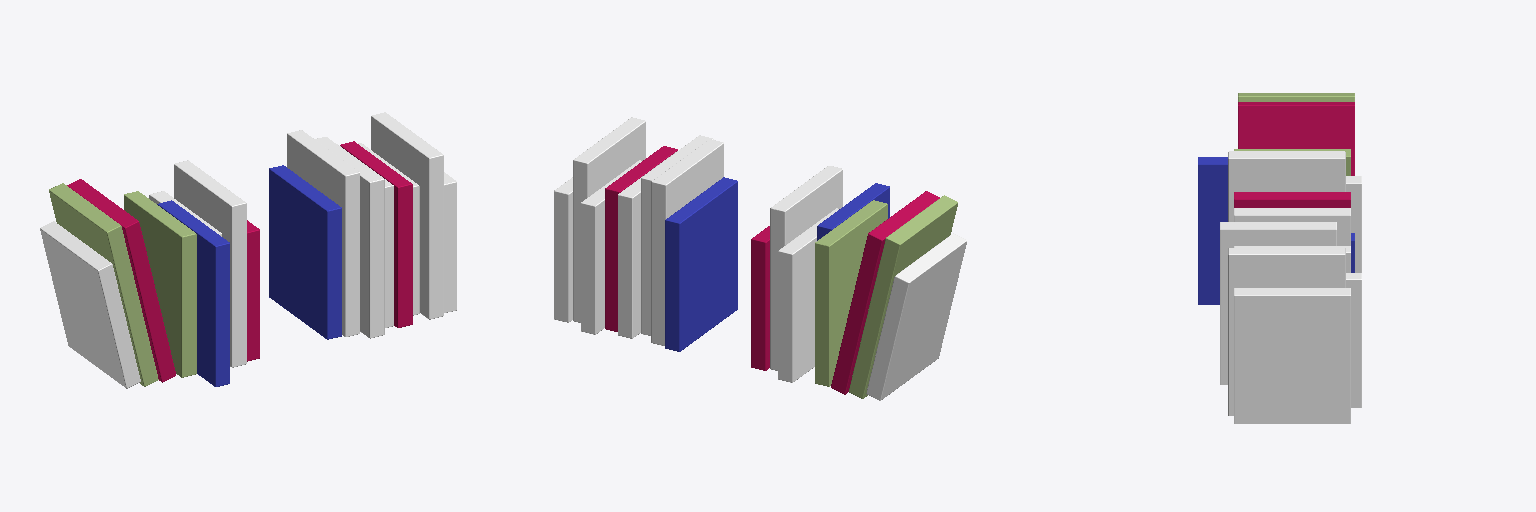
File: book3_2.obj
The picture shows the model from 3 angles: view 1: azimuth 30°, elevation 25°; view 2: azimuth 150°, elevation 25°; view 3: azimuth 270°, elevation 25°; orthographic projection.
Parts seen in each view (by area): view 1: 立方体.8, 立方体.12, 立方体.15, 立方体.2, 立方体.7, 立方体.16, 立方体.18, 立方体, 立方体.6, 立方体.11, 立方体.4, 立方体.1 (+3 smaller); view 2: 立方体.8, 立方体.12, 立方体.15, 立方体, 立方体.17, 立方体.7, 立方体.2, 立方体.18, 立方体.11, 立方体.5, 立方体.3, 立方体.4 (+4 smaller); view 3: 立方体.1, 立方体.11, 立方体.2, 立方体.18, 立方体.6, 立方体.16, 立方体.7, 立方体.19, 立方体.3, 立方体, 立方体.17.
Part boxes in pixels (x1,y1,x2,y2): 立方体.8: (269, 165, 341, 339); 立方体.12: (40, 221, 140, 388); 立方体.15: (124, 191, 196, 377); 立方体.2: (371, 112, 443, 319); 立方体.7: (287, 130, 359, 336); 立方体.16: (157, 200, 229, 386); 立方体.18: (174, 160, 246, 367); 立方体: (49, 183, 158, 386); 立方体.6: (315, 137, 384, 338); 立方体.11: (67, 179, 175, 382); 立方体.4: (340, 141, 412, 327); 立方体.1: (444, 172, 456, 312); 立方体.8: (665, 177, 737, 351); 立方体.12: (866, 233, 966, 400); 立方体.15: (815, 200, 887, 386); 立方体: (849, 195, 957, 398); 立方体.17: (778, 208, 838, 382); 立方体.7: (651, 139, 723, 345); 立方体.2: (573, 117, 645, 322); 立方体.18: (770, 166, 842, 370); 立方体.11: (831, 191, 939, 394); 立方体.5: (618, 152, 675, 338); 立方体.3: (581, 160, 641, 334); 立方体.4: (605, 146, 677, 331); 立方体.1: (1234, 288, 1350, 423); 立方体.11: (1238, 102, 1354, 175); 立方体.2: (1228, 248, 1345, 415); 立方体.18: (1228, 151, 1345, 221); 立方体.6: (1220, 222, 1336, 384); 立方体.16: (1198, 157, 1227, 304); 立方体.7: (1234, 208, 1350, 245); 立方体.19: (1234, 192, 1350, 207); 立方体.3: (1346, 273, 1361, 407); 立方体: (1238, 93, 1354, 101); 立方体.17: (1346, 176, 1361, 272).
Size of the model in its own units: 92.75 by 41.53 by 36.96.